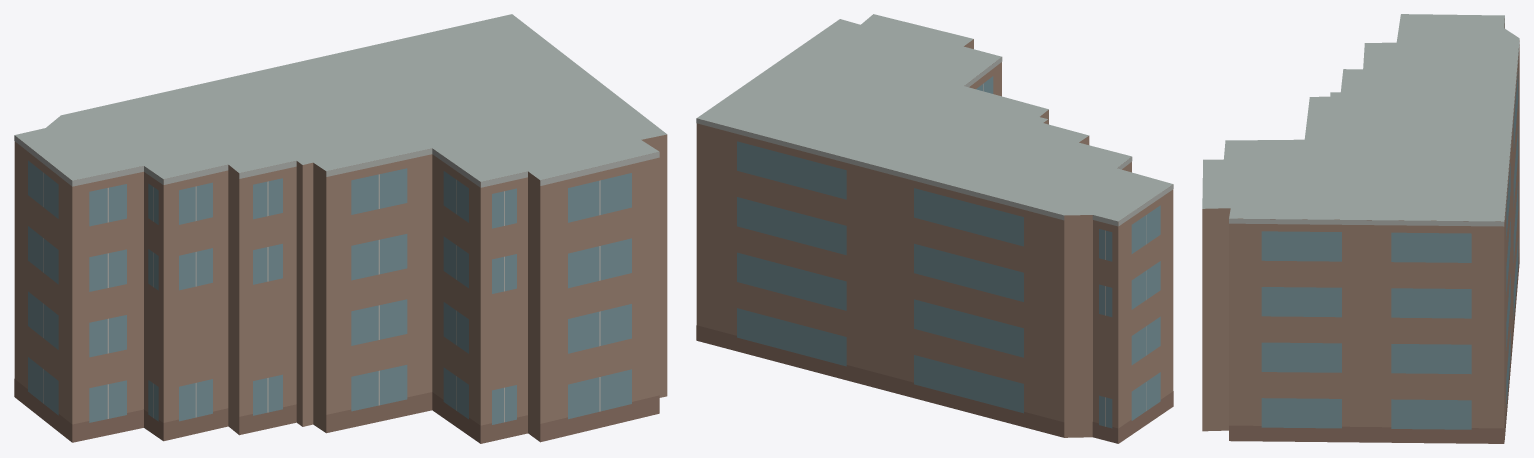
The model's file is survey-upis-32489723.glb.
3 renders of one model, left to right at view 1: azimuth 30°, elevation 25°; view 2: azimuth 150°, elevation 25°; view 3: azimuth 270°, elevation 25°, orthographic. The views are drawn at different scales.
Parts seen in each view (by area): view 1: survey-upis-32489723.tmp; view 2: survey-upis-32489723.tmp; view 3: survey-upis-32489723.tmp.
Boxes of the visible parts, x1,y1,x2,y2 form: survey-upis-32489723.tmp: [14, 14, 667, 443]; survey-upis-32489723.tmp: [696, 14, 1173, 443]; survey-upis-32489723.tmp: [1202, 14, 1519, 443].
Size of the model in its own units: 21.72 by 10.85 by 14.04.
